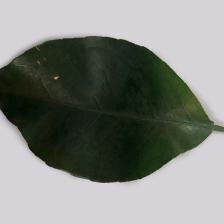healthy: (59, 47, 224, 168)
